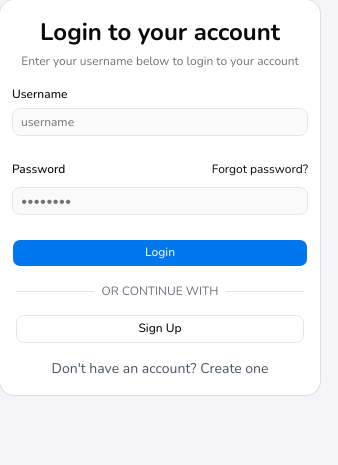
Scenario: LoginPage › falls back to a generic message when the error body is empty
The width and height of the screenshot is (338, 465).
In the field labelled "Username": (160, 122) [12,108,308,136], type "admin01"
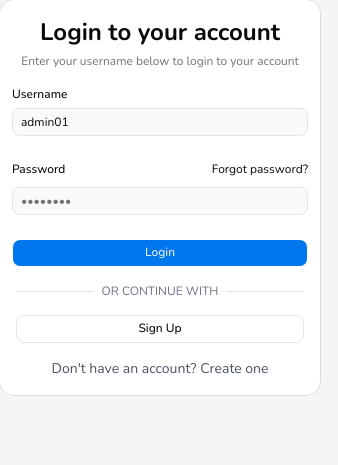
In the password field labelled "Password": (160, 201) [12,187,308,215], type "secret123"
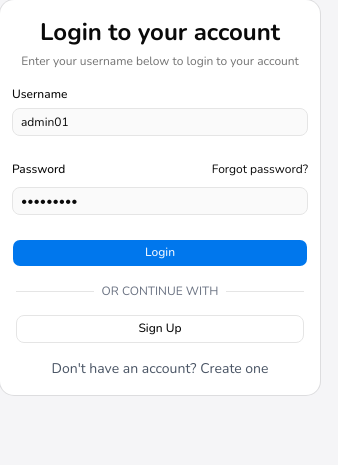
Click the button "Login": (160, 253) [12,239,308,267]
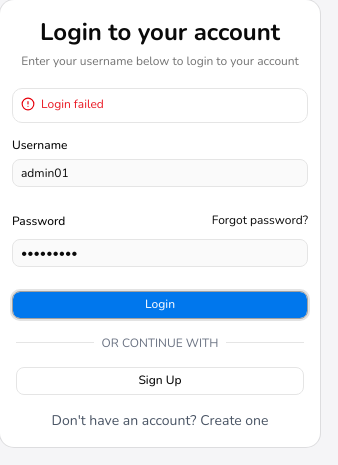
Check: the text "Login failed" is shown, box [41,96,104,112]
